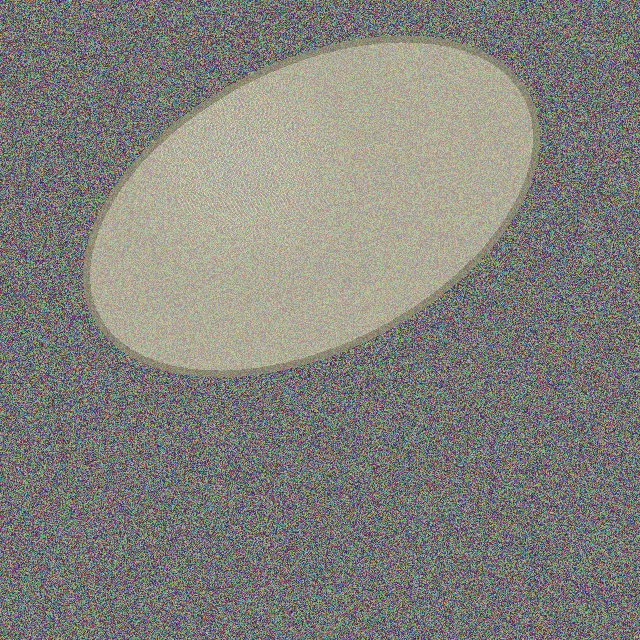lens: (86, 39, 536, 373)
